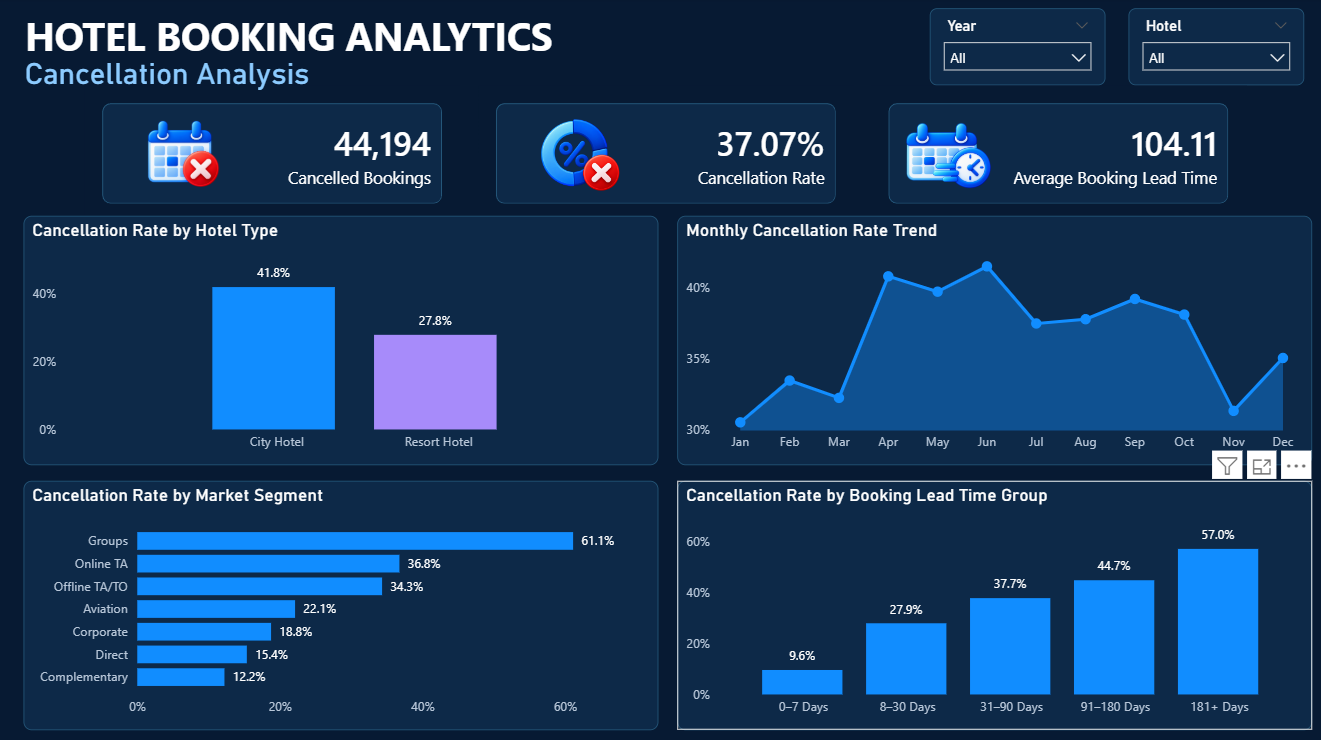

What the dashboard file says about the page in this screenshot:
{"tool":"powerbi","page":{"name":"Duplicate of Booking Performance","canvas":[1280,720],"ordinal":1},"visuals":[{"type":"cardVisual","title":"Total Bookings","fields":{"Data":["Fact_Bookings.Cancelled Booking"]},"box":[85.6,85.6,362.2,131.5],"z":0},{"type":"textbox","box":[23.1,7.2,553.3,67],"z":1000},{"type":"textbox","box":[23.1,51.9,435.4,53.3],"z":2000},{"type":"slicer","fields":{"Values":["Dim_Calendar.Year"]},"box":[901.4,11.2,170,74.4],"z":3000},{"type":"slicer","fields":{"Values":["Fact_Bookings.hotel"]},"box":[1092.4,11.2,170,74.4],"z":4000},{"type":"cardVisual","title":"Total Bookings","fields":{"Data":["Fact_Bookings.Cancellation Rate"]},"box":[465.2,85.6,362.2,131.5],"z":5000},{"type":"cardVisual","title":"Total Bookings","fields":{"Data":["Fact_Bookings.Average Lead Time"]},"box":[844.8,85.6,362.2,131.5],"z":6000},{"type":"clusteredColumnChart","title":"Cancellation Rate by Hotel Type","fields":{"Category":["Fact_Bookings.hotel"],"Y":["Fact_Bookings.Cancellation Rate"]},"box":[26.1,210.7,612.8,240.7],"z":7000},{"type":"clusteredBarChart","title":"Cancellation Rate by Market Segment","fields":{"Category":["Fact_Bookings.market_segment"],"Y":["Fact_Bookings.Cancellation Rate"]},"box":[26.7,467,612.8,240.7],"z":8000},{"type":"lineChart","title":"Monthly Cancellation Rate Trend","fields":{"Category":["Dim_Calendar.Month"],"Y":["Fact_Bookings.Cancellation Rate"]},"box":[657.3,211.7,612.8,240.7],"z":9000},{"type":"clusteredColumnChart","title":"Cancellation Rate by Booking Lead Time Group","fields":{"Y":["Fact_Bookings.Cancellation Rate"],"Category":["Fact_Bookings.Lead Time Group"]},"box":[657.5,466.7,612.8,240.7],"z":10000},{"type":"image","box":[138.7,112.2,80.8,78.4],"z":11000},{"type":"image","box":[513.9,105,97.7,95.3],"z":11001},{"type":"image","box":[872.3,97.7,91.7,111],"z":11002}]}

Visuals, with their boxes in screenshot pixels (x1, y1, x2, y2), scaled from the page's 1280x720 canvas onto the 1321x740 screenshot:
"Total Bookings" cardVisual: (x1=88, y1=88, x2=462, y2=223)
textbox: (x1=24, y1=7, x2=595, y2=76)
textbox: (x1=24, y1=53, x2=473, y2=108)
slicer - Dim_Calendar.Year: (x1=930, y1=12, x2=1106, y2=88)
slicer - Fact_Bookings.hotel: (x1=1127, y1=12, x2=1303, y2=88)
"Total Bookings" cardVisual: (x1=480, y1=88, x2=854, y2=223)
"Total Bookings" cardVisual: (x1=872, y1=88, x2=1246, y2=223)
"Cancellation Rate by Hotel Type" clusteredColumnChart: (x1=27, y1=217, x2=659, y2=464)
"Cancellation Rate by Market Segment" clusteredBarChart: (x1=28, y1=480, x2=660, y2=727)
"Monthly Cancellation Rate Trend" lineChart: (x1=678, y1=218, x2=1311, y2=465)
"Cancellation Rate by Booking Lead Time Group" clusteredColumnChart: (x1=679, y1=480, x2=1311, y2=727)
image: (x1=143, y1=115, x2=227, y2=196)
image: (x1=530, y1=108, x2=631, y2=206)
image: (x1=900, y1=100, x2=995, y2=214)
